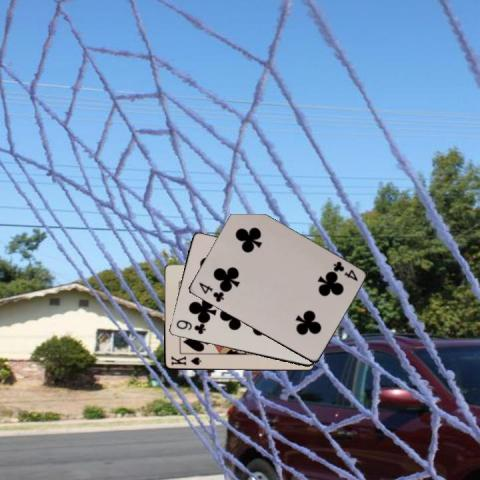4c: (330, 258, 359, 283), (196, 280, 225, 304)
9c: (173, 317, 207, 336)
Ks: (168, 353, 203, 367)
